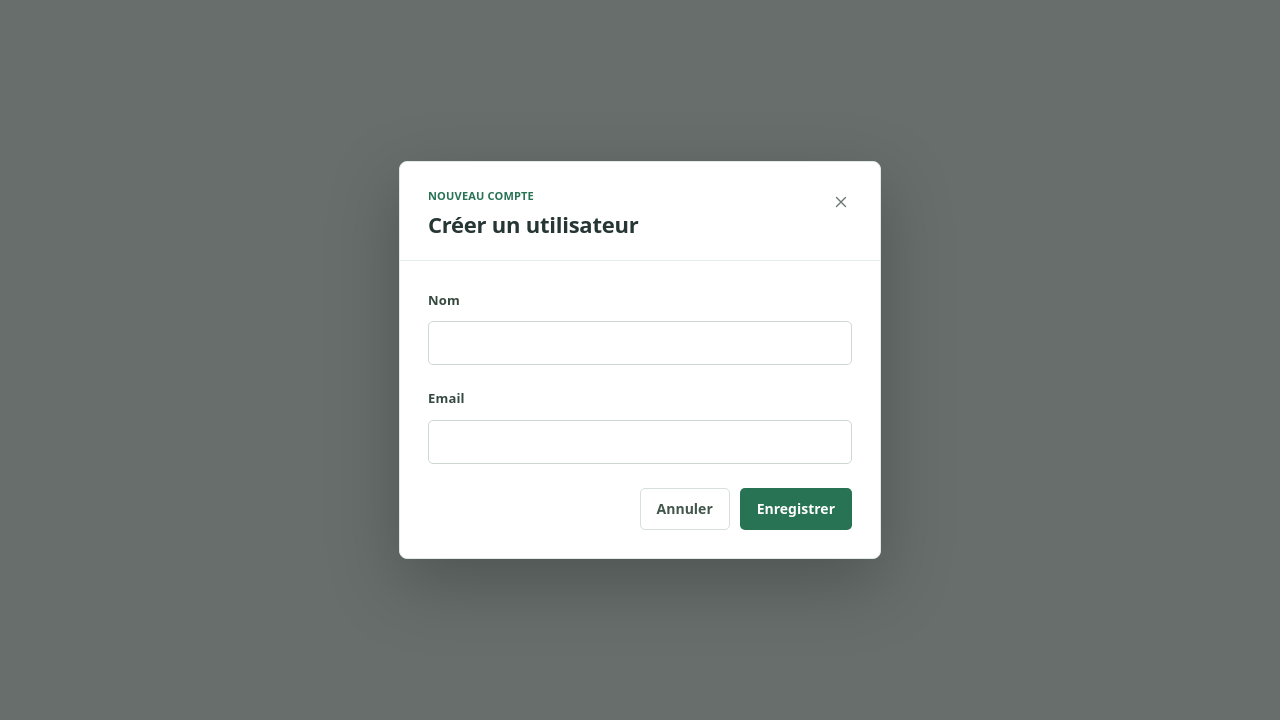
it: UserCreateModal › signale un email invalide sans appeler l’API
This screenshot has width=1280, height=720.
Type "Karim" into the field with id "create-user-name". click: (640, 344)
box: top-left (428, 322), bottom-right (852, 366)
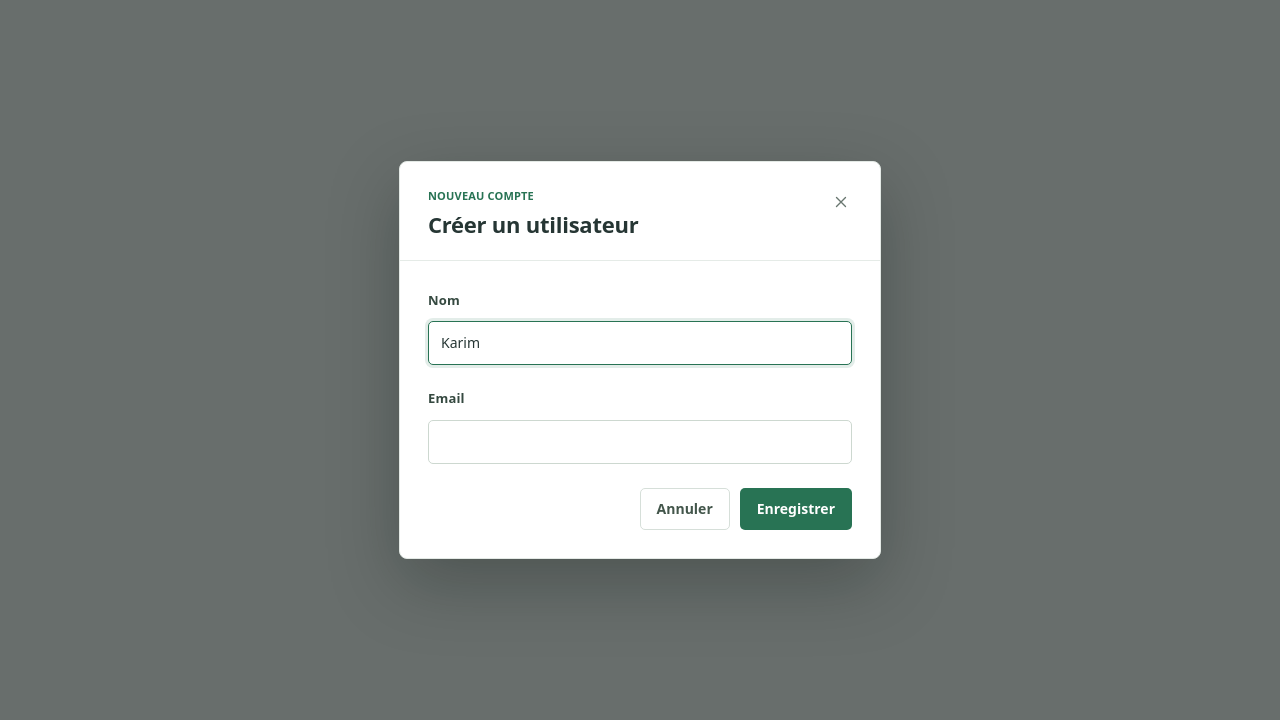
Type "email-invalide" into the field with id "create-user-email". click: (640, 442)
box: top-left (428, 420), bottom-right (852, 464)
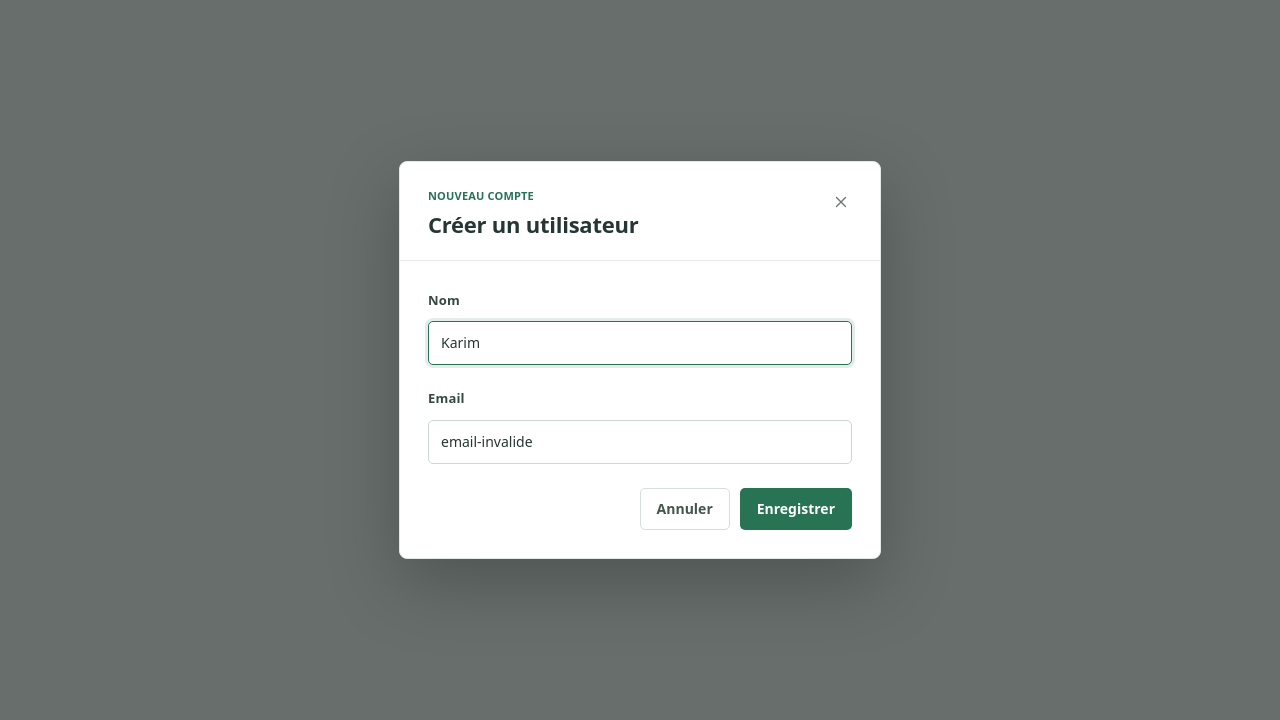
Submit the form with class "create-form", box top-left (400, 261), bottom-right (880, 558)
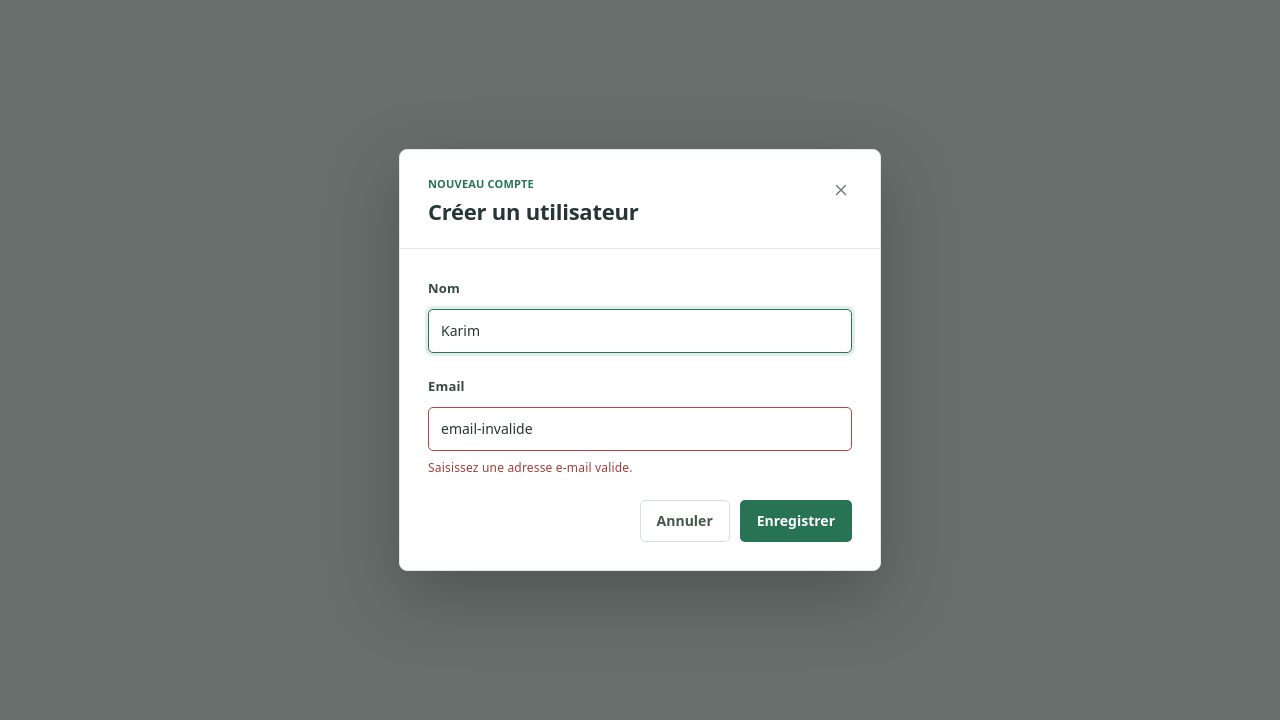
Expected: the text "Saisissez une adresse e-mail valide." is shown, top-left (428, 459), bottom-right (633, 476)
